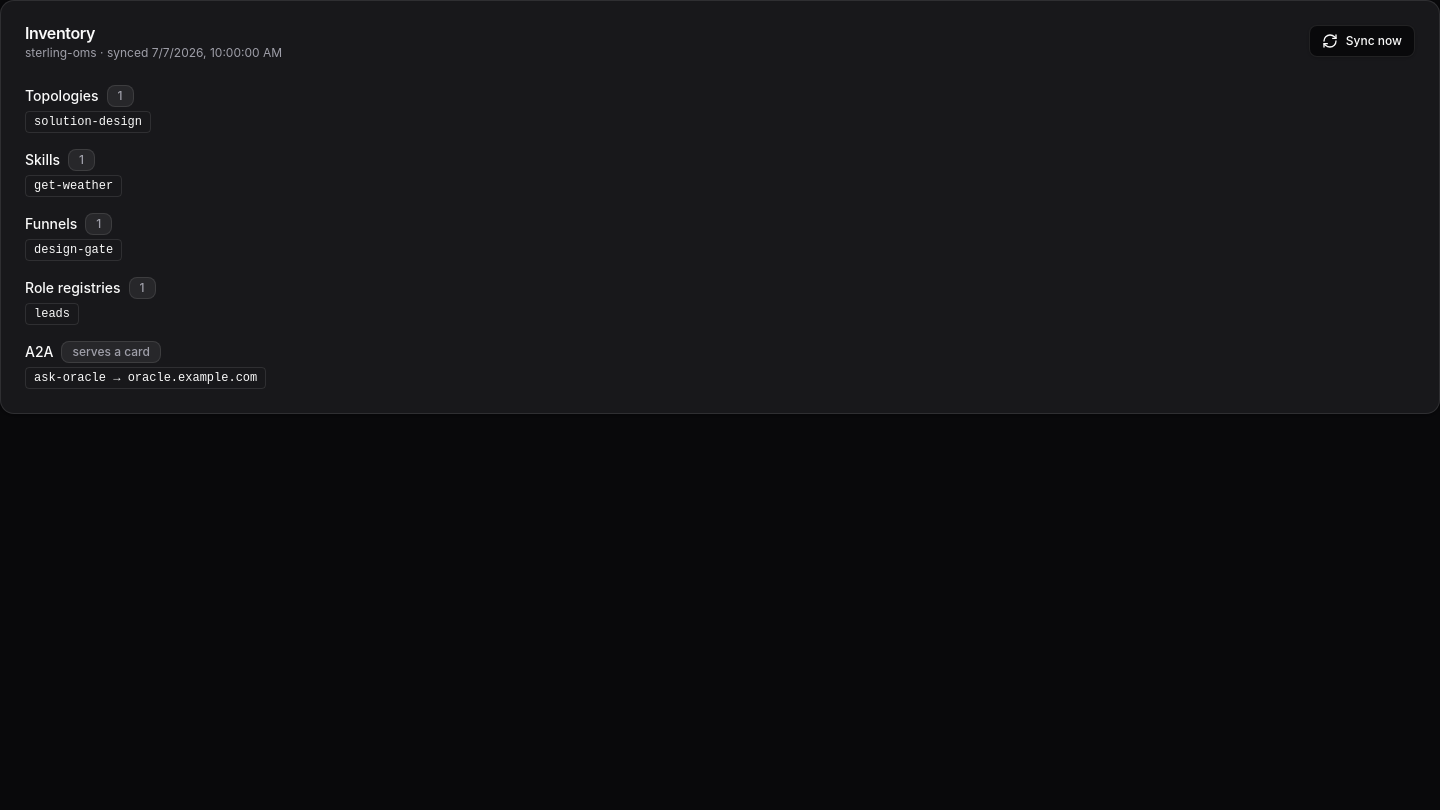
Test case: InventoryCard › adopts a selected artifact into the registry with its kind
This screenshot has width=1440, height=810.
// select the skill, then adopt it — the singular kind is sent, not the collection key.
Click the button "get-weather" at (74, 186), box [25, 175, 122, 197]
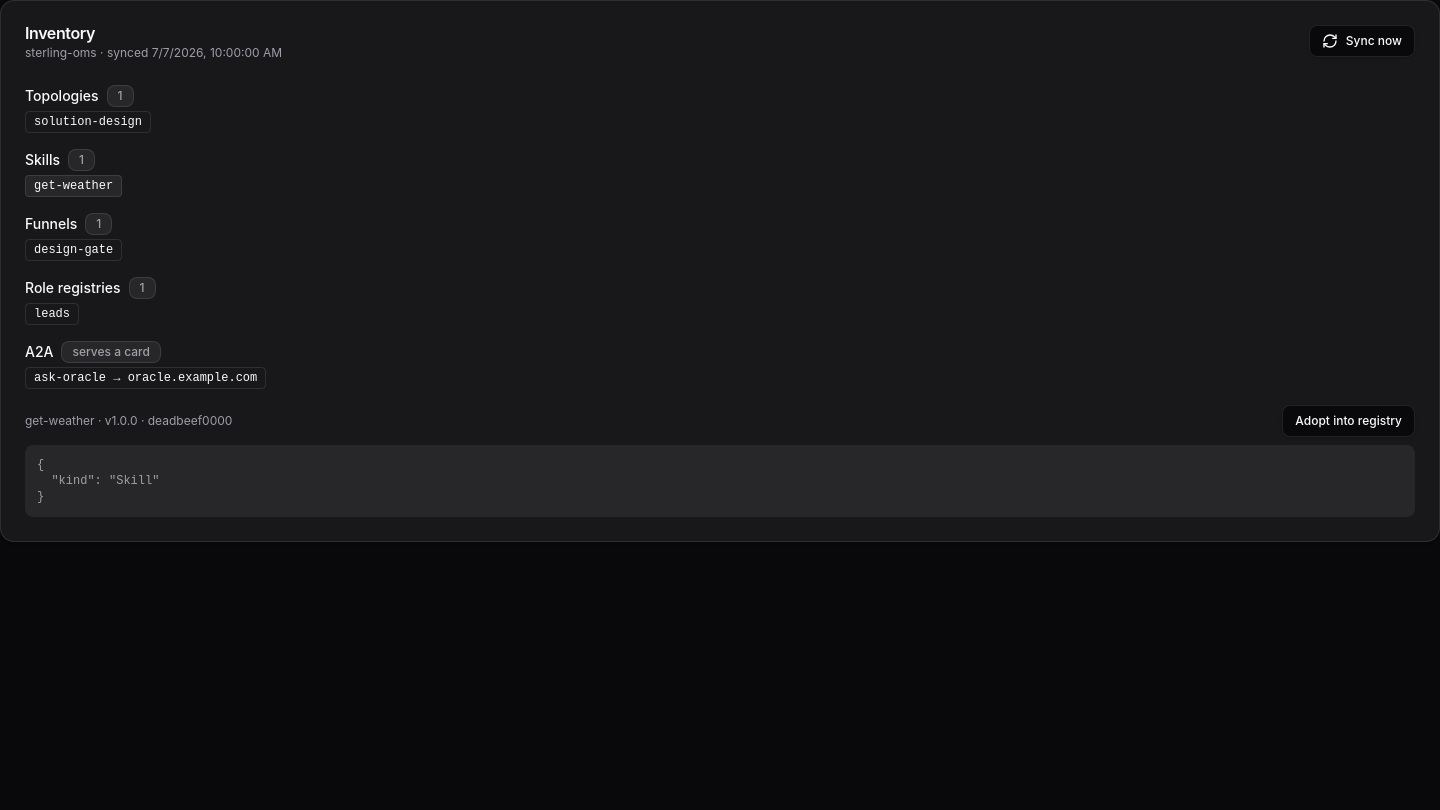
Click the button "Adopt into registry" at (1349, 421), box [1282, 405, 1415, 437]
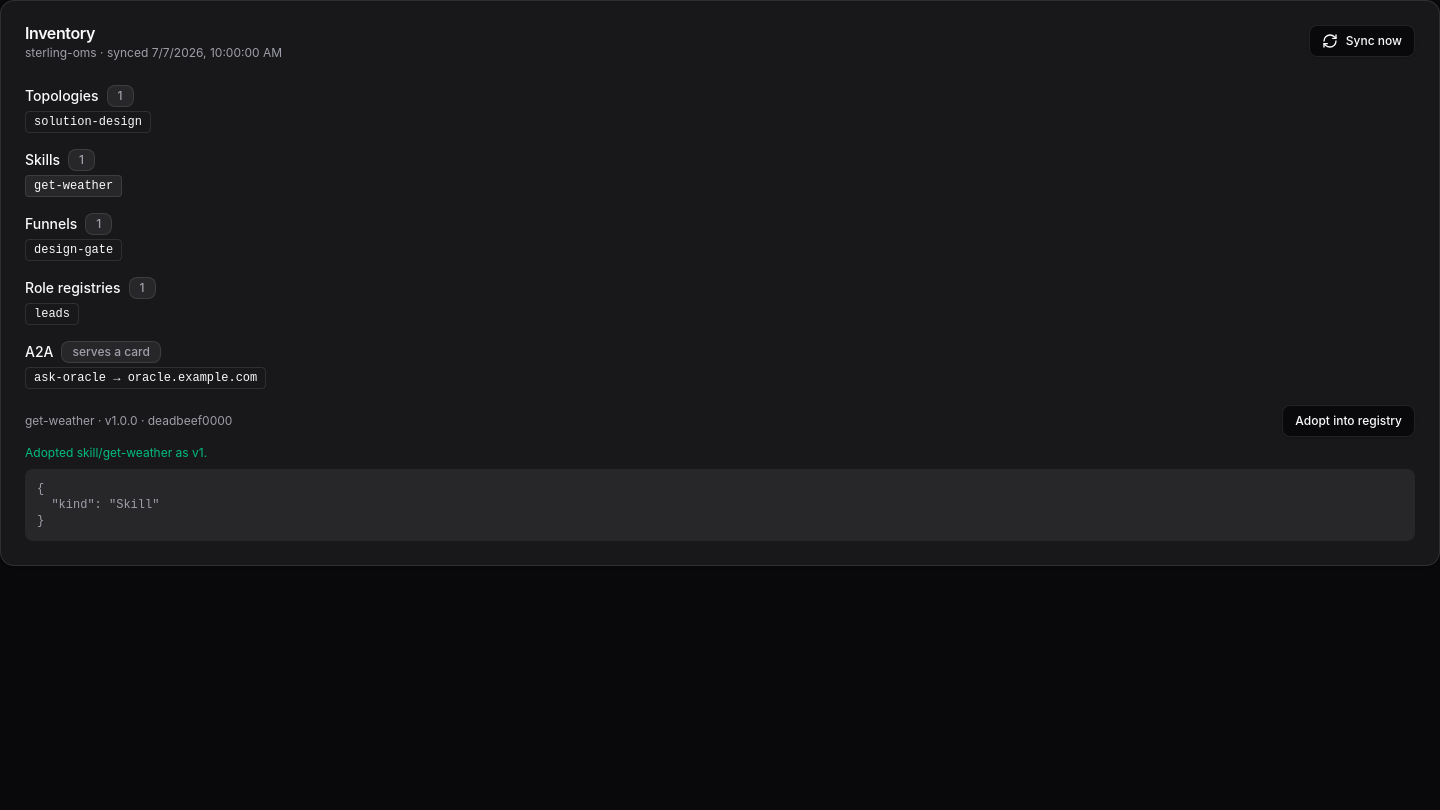
expect the text "Adopted skill/get-weather as v1." is shown: met, box [25, 445, 207, 460]
